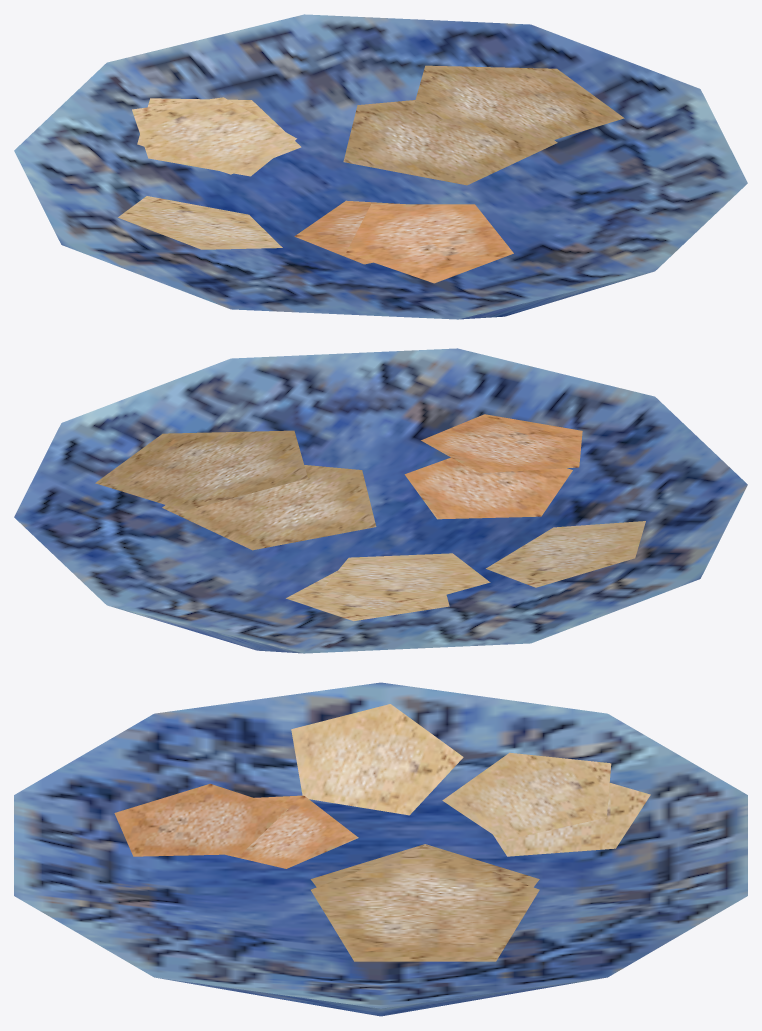
The model's file is edb_dish_kanali_wafers_l1.fbx.
3 views of the same model, one above another, from view 1: azimuth 30°, elevation 25°; view 2: azimuth 150°, elevation 25°; view 3: azimuth 270°, elevation 25° (orthographic). The views are drawn at different scales.
Parts seen in each view (by area): view 1: mesh_node; view 2: mesh_node; view 3: mesh_node.
Boxes of the visible parts, x1,y1,x2,y2 form: mesh_node: [14, 14, 747, 319]; mesh_node: [14, 348, 747, 653]; mesh_node: [14, 682, 747, 1016].
Bounding box in the file's own units: 0.533 × 0.0674 × 0.507.
1 material, 1 textured.
